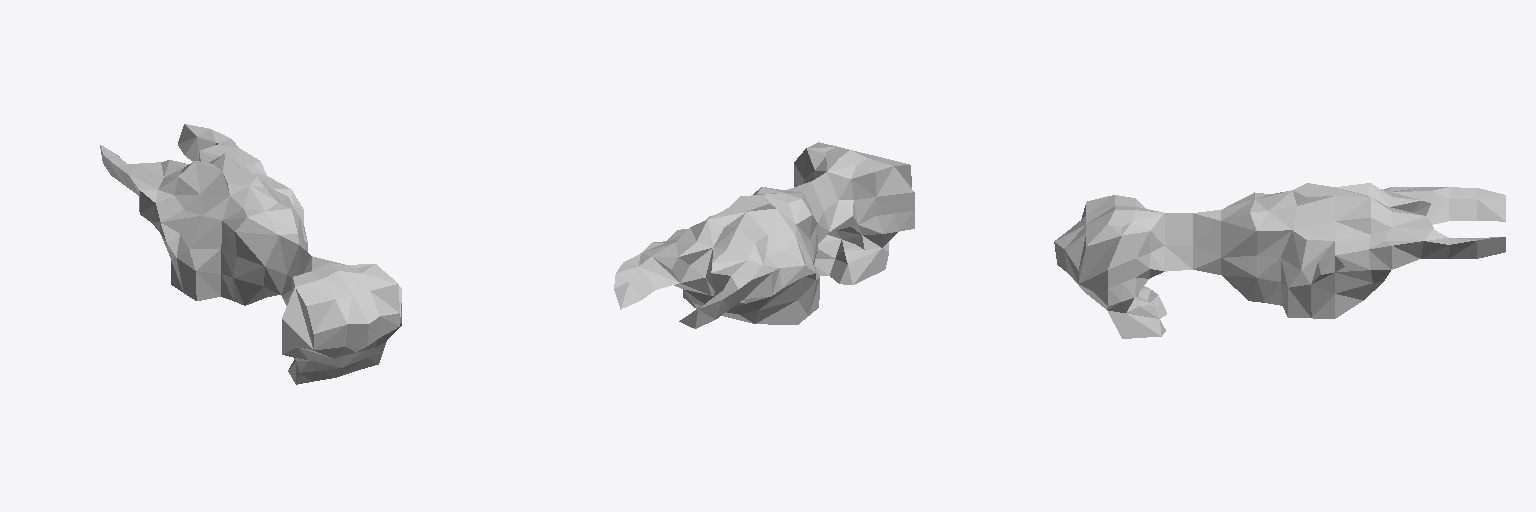
Rendered from vintovka.obj.
The picture shows the model from 3 angles: view 1: azimuth 30°, elevation 25°; view 2: azimuth 150°, elevation 25°; view 3: azimuth 270°, elevation 25°; orthographic projection.
Visible parts, largest first — view 1: Cube_Cube.001; view 2: Cube_Cube.001; view 3: Cube_Cube.001.
Boxes of the visible parts, box(x1,y1,x2,y2) form: Cube_Cube.001: box(100, 124, 401, 384); Cube_Cube.001: box(614, 142, 914, 328); Cube_Cube.001: box(1054, 183, 1505, 338).
Bounding box in the file's own units: 0.5581 × 0.5117 × 1.59.